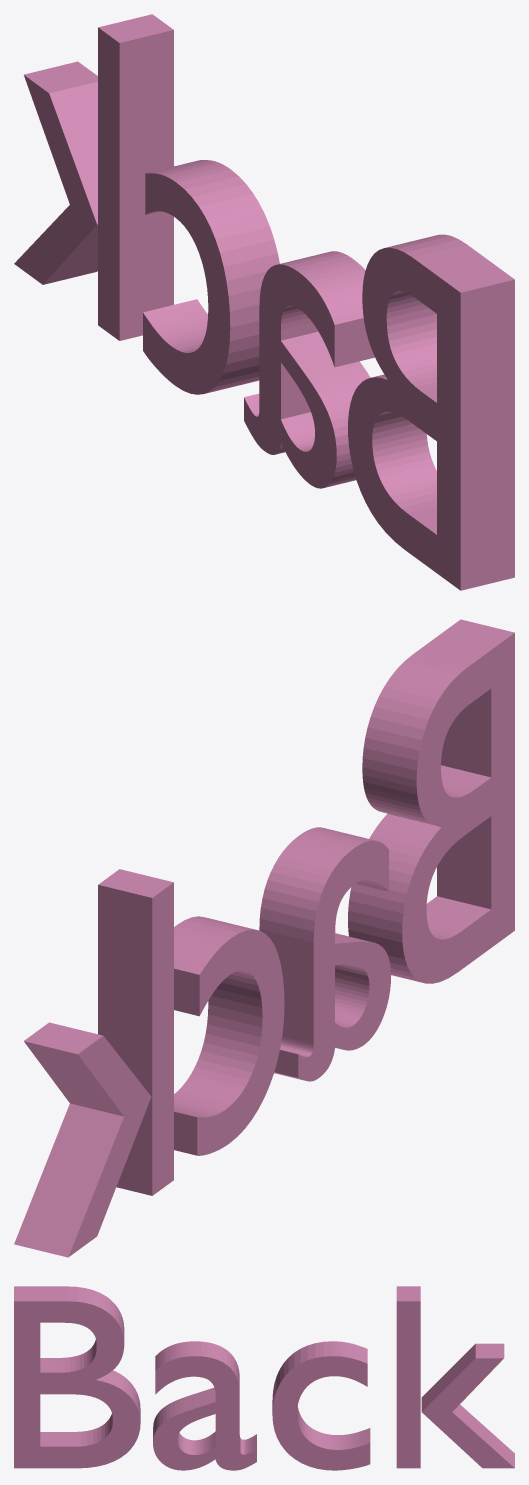
File: back.fbx
3 views of the same model, one above another, from view 1: azimuth 30°, elevation 25°; view 2: azimuth 150°, elevation 25°; view 3: azimuth 270°, elevation 25° (orthographic). The views are drawn at different scales.
Visible parts, largest first — view 1: Text; view 2: Text; view 3: Text.
Boxes of the visible parts, x1=… form: Text: x1=14, y1=14, x2=514, y2=590; Text: x1=14, y1=619, x2=514, y2=1257; Text: x1=14, y1=1286, x2=514, y2=1470.
Bounding box in the file's own units: 13 × 69.1 × 185.
